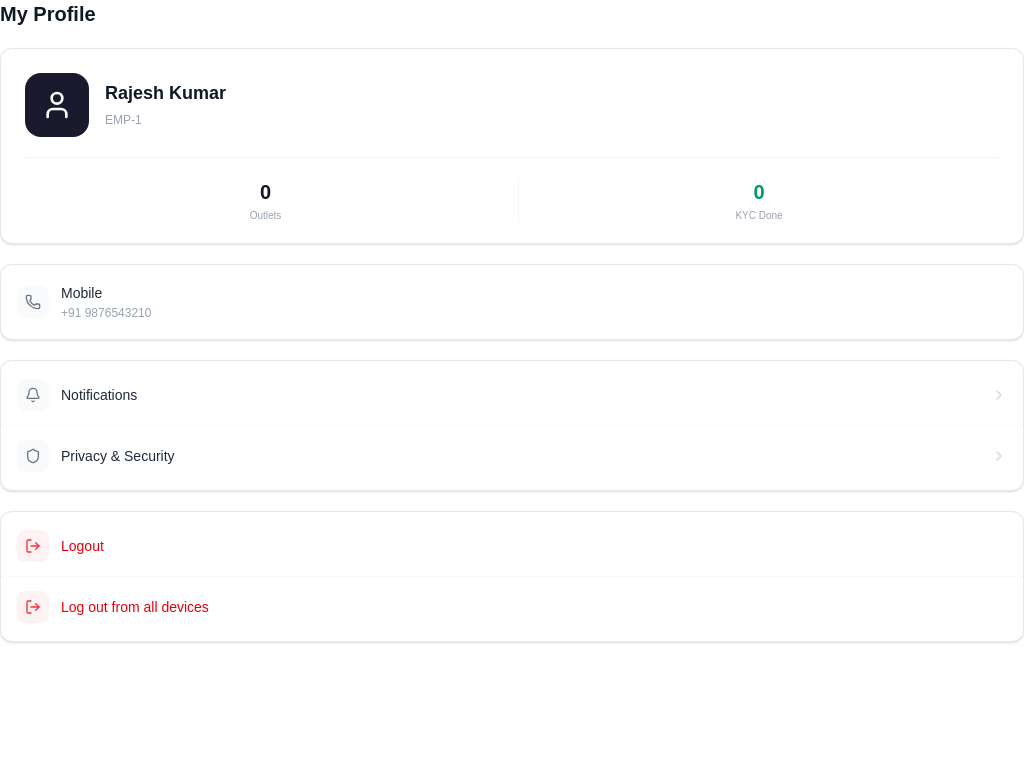
Test: SLA — Sales Profile log out from all devices › SLA1: opens the confirm modal from the menu item
Expected: the heading "Rajesh Kumar" is shown, [105,83,226,103]
Click the button "Log out from all devices" at point(33, 607), box [1,577,1023,637]
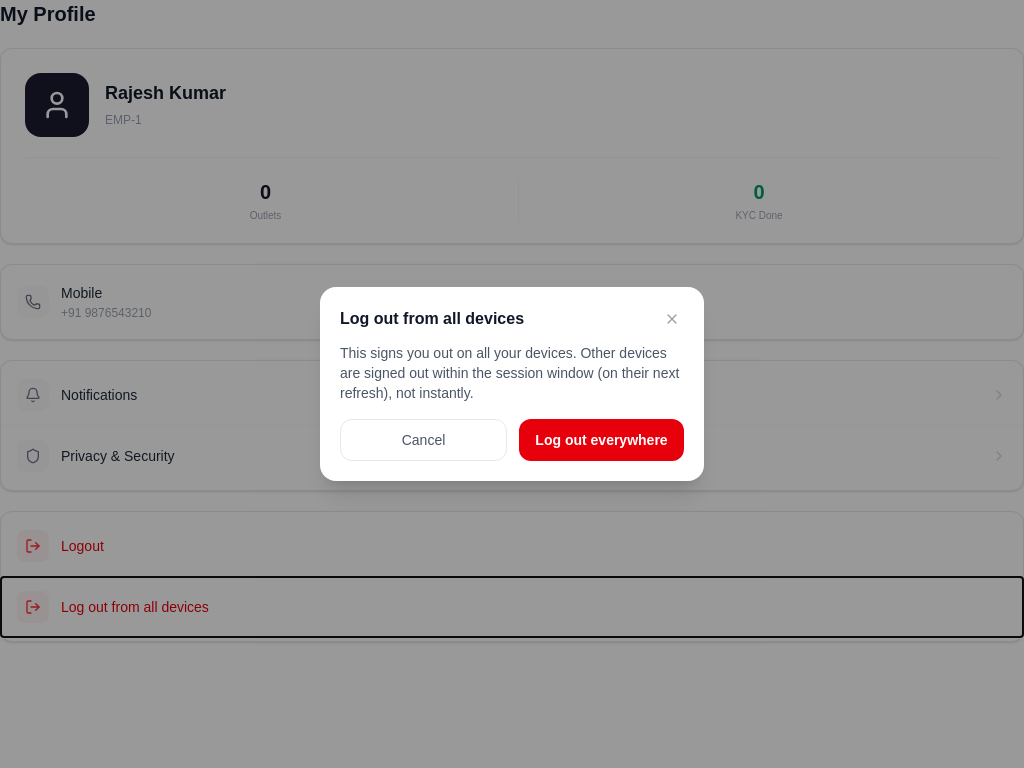
Now the dialog is shown, box [320,287,704,481]
Now the text "signs you out on all your devices" is shown, box [340,345,679,401]
